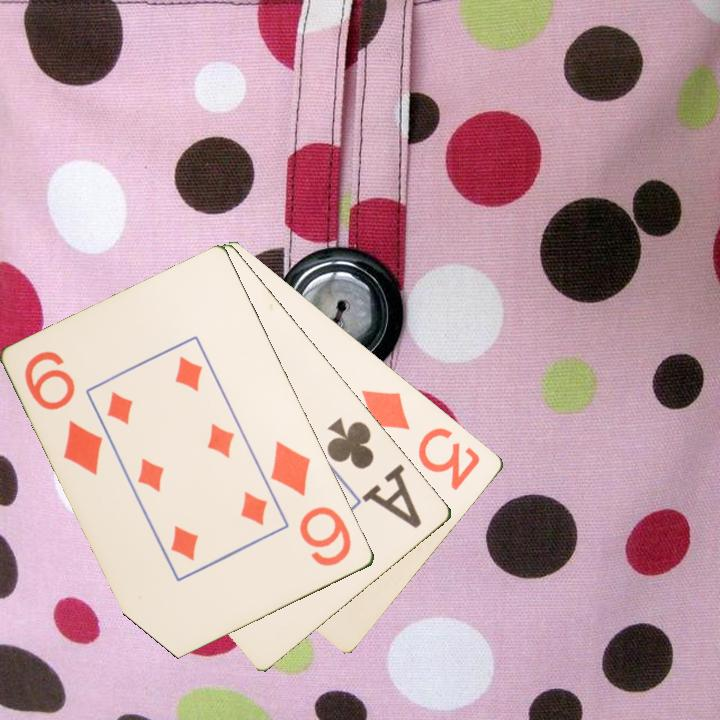3d: (358, 386, 484, 493)
6d: (267, 437, 355, 570), (21, 347, 107, 479)
Ac: (323, 413, 426, 532)
